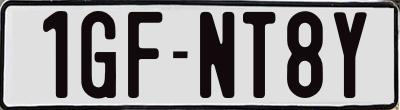1: (41, 10, 69, 103)
8: (285, 9, 323, 96)
F: (126, 11, 162, 98)
G: (78, 8, 117, 97)
N: (198, 9, 232, 98)
T: (240, 11, 276, 103)
Y: (333, 9, 369, 98)
